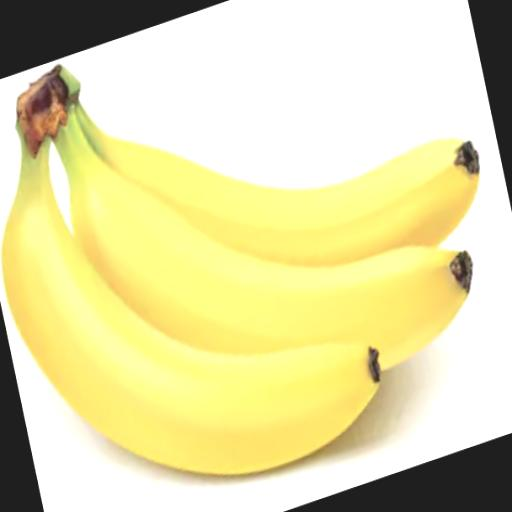banana-ripe: (1, 25, 501, 498)
